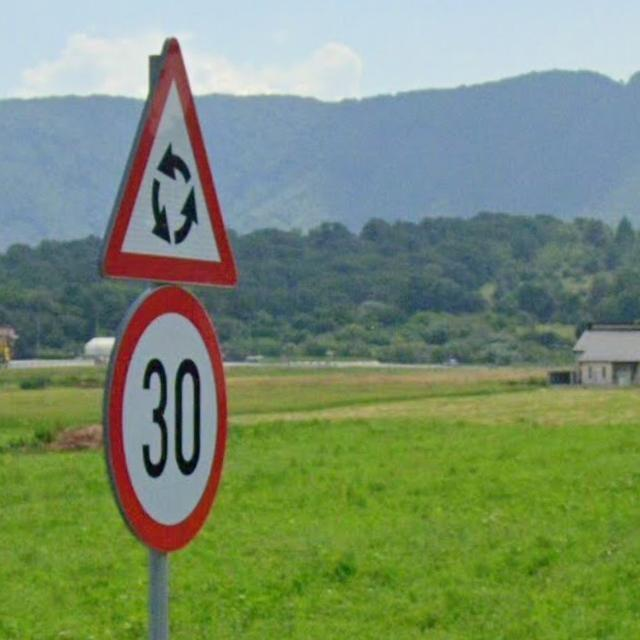forb_speed_over_30: (97, 283, 230, 549)
